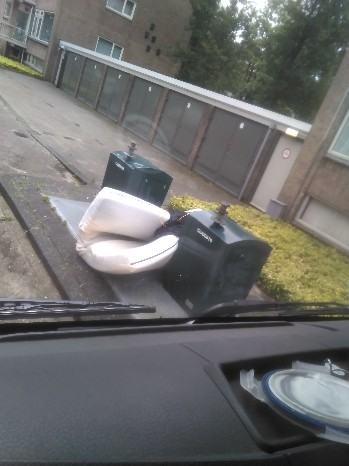Container: (190, 213, 242, 328), (110, 149, 165, 197)
Rest: (74, 194, 162, 276)
